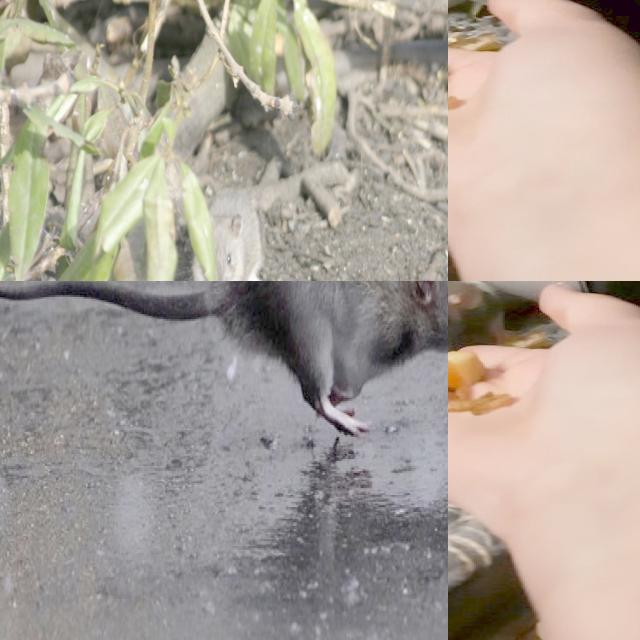rat: (0, 281, 448, 455), (204, 188, 265, 281), (448, 281, 523, 352)
